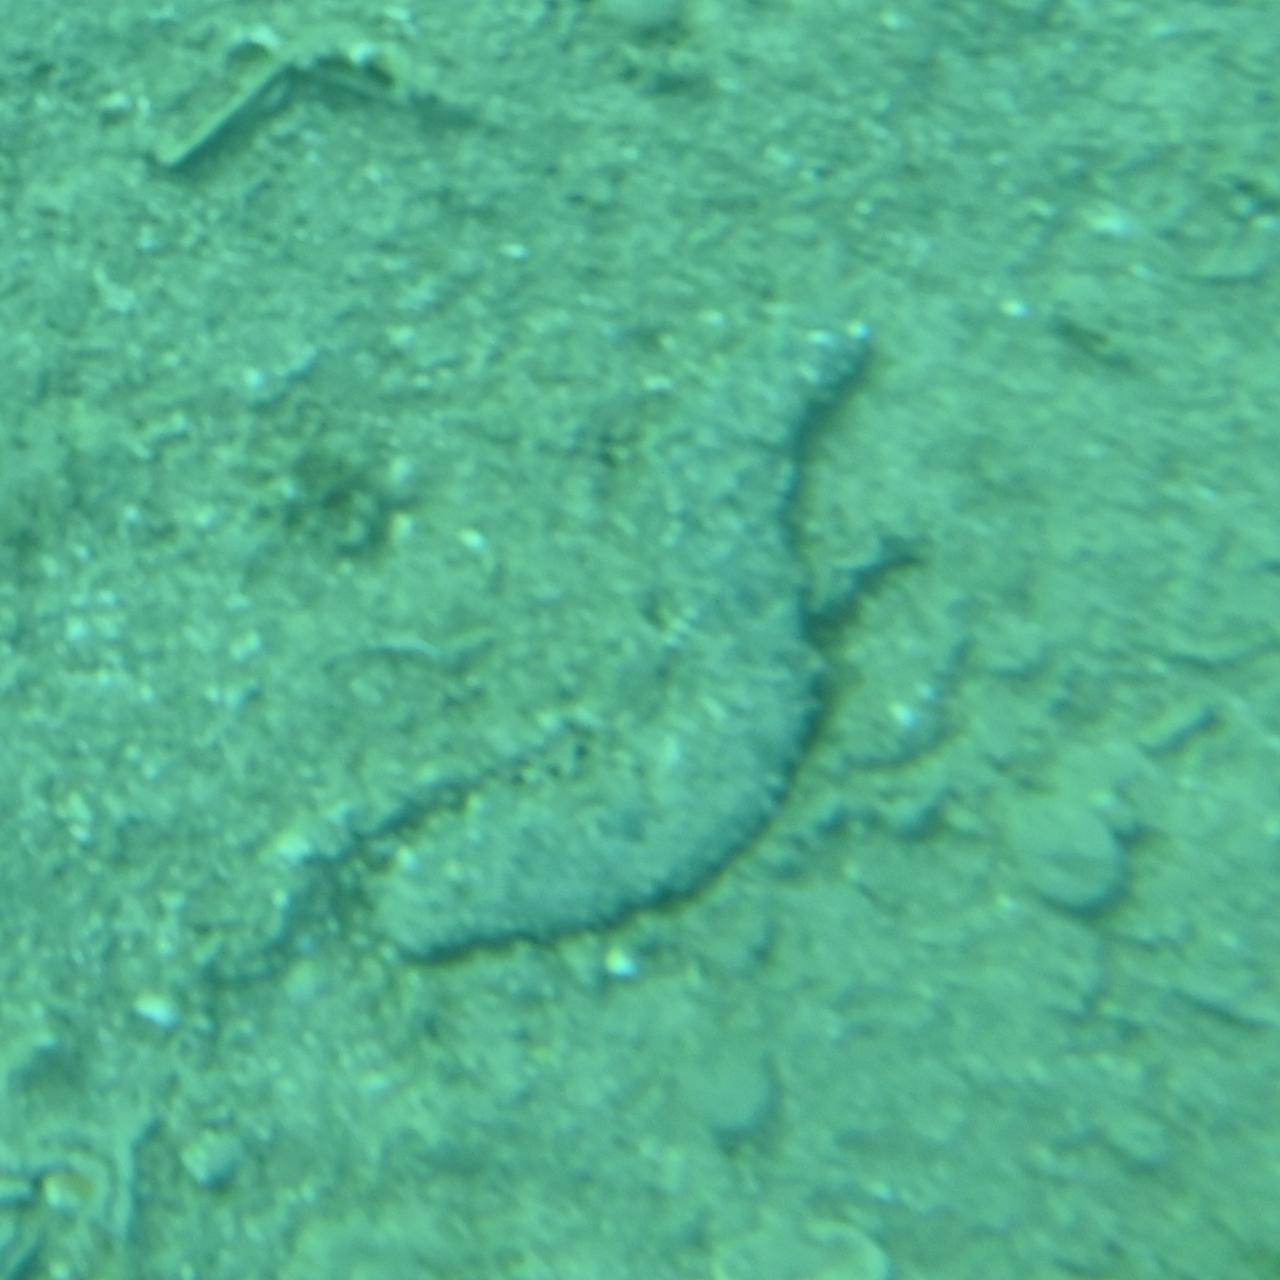Holothuria tubulosa: (374, 314, 906, 966)
